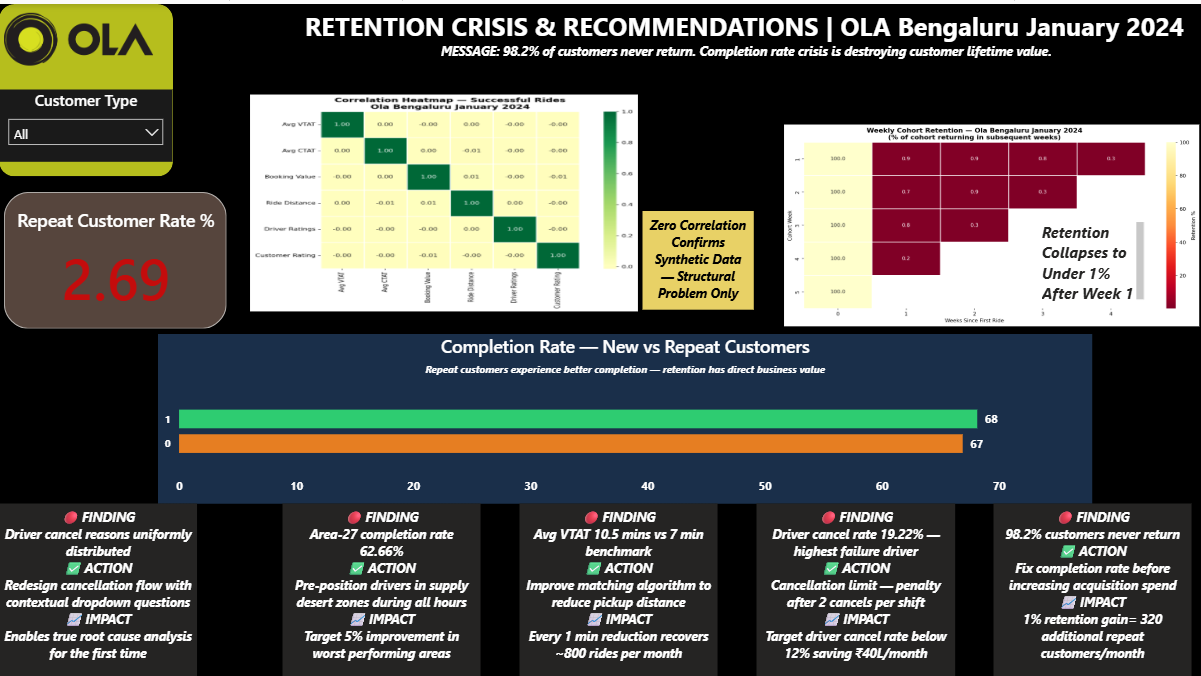

What the dashboard file says about the page in this screenshot:
{"tool":"powerbi","page":{"name":"Retention & Recommendations","canvas":[1280,720],"ordinal":5},"visuals":[{"type":"shape","box":[0,0,184.6,183],"z":0},{"type":"textbox","box":[300.6,0,979.8,74.8],"z":1000},{"type":"slicer","title":"Customer Type","fields":{"Values":["ola_powerbi_ready.Is_Repeat_Customer"]},"box":[0,91.1,184.3,77],"z":2000},{"type":"cardVisual","fields":{"Data":["Measure Table.Repeat Customer Rate %"]},"box":[0,194.3,246.1,155.4],"z":3000},{"type":"image","box":[827.1,122.5,451.7,224.3],"z":4000},{"type":"textbox","box":[1101.1,225.1,118.2,93.9],"z":5000},{"type":"clusteredBarChart","title":"Completion Rate — New vs Repeat Customers","fields":{"Category":["ola_powerbi_ready.Is_Repeat_Customer"],"Y":["Measure Table.Completion Rate %"]},"box":[168.6,349.9,991,179.7],"z":6000},{"type":"image","box":[260.9,90.7,421.5,240.2],"z":7000},{"type":"textbox","box":[682.4,219.5,117.7,105],"z":8000},{"type":"textbox","box":[0,529.5,210,189],"z":9000},{"type":"textbox","box":[301.2,529.5,210,188],"z":10000},{"type":"textbox","box":[552.2,529.5,210,189],"z":11000},{"type":"textbox","box":[803.1,529.5,210.5,189.4],"z":12000},{"type":"textbox","box":[1054.1,529.5,210,189],"z":13000},{"type":"image","box":[0.3,0.3,168.4,74.5],"z":14000}]}

Visuals, with their boxes in screenshot pixels (x1, y1, x2, y2), scaled from the page's 1280x720 canvas onto the 1201x676 screenshot:
shape: locate(0, 0, 173, 172)
textbox: locate(282, 0, 1200, 70)
"Customer Type" slicer: locate(0, 86, 173, 158)
cardVisual - Measure Table.Repeat Customer Rate %: locate(0, 182, 231, 328)
image: locate(776, 115, 1200, 326)
textbox: locate(1033, 211, 1144, 300)
"Completion Rate — New vs Repeat Customers" clusteredBarChart: locate(158, 329, 1088, 497)
image: locate(245, 85, 640, 311)
textbox: locate(640, 206, 751, 305)
textbox: locate(0, 497, 197, 675)
textbox: locate(283, 497, 480, 674)
textbox: locate(518, 497, 715, 675)
textbox: locate(754, 497, 951, 675)
textbox: locate(989, 497, 1186, 675)
image: locate(0, 0, 158, 70)
